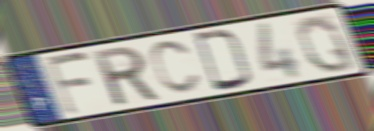4: (257, 20, 304, 82)
C: (148, 37, 204, 97)
D: (190, 28, 256, 94)
F: (41, 50, 97, 118)
Q: (294, 13, 360, 75)
R: (89, 43, 163, 109)
